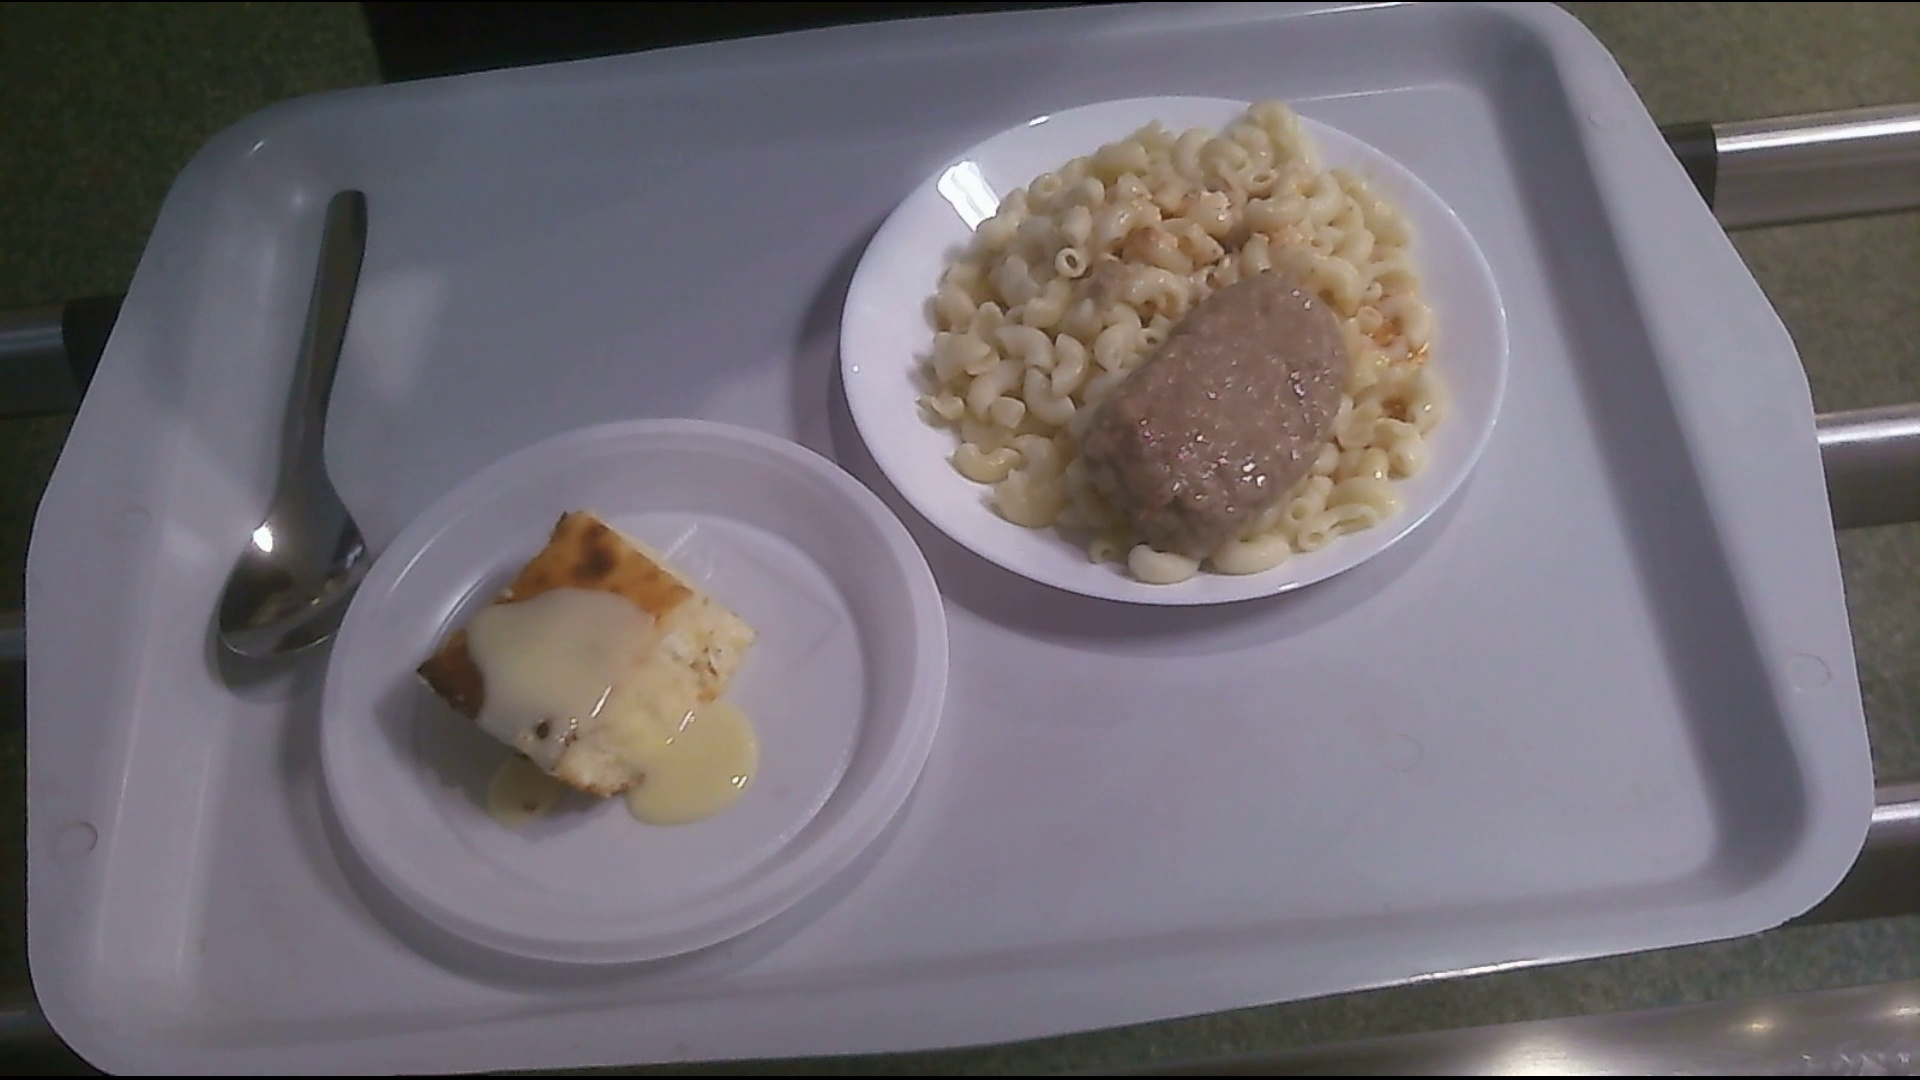cutlery: (214, 167, 386, 699)
plate: (828, 91, 1513, 603), (324, 427, 952, 963)
